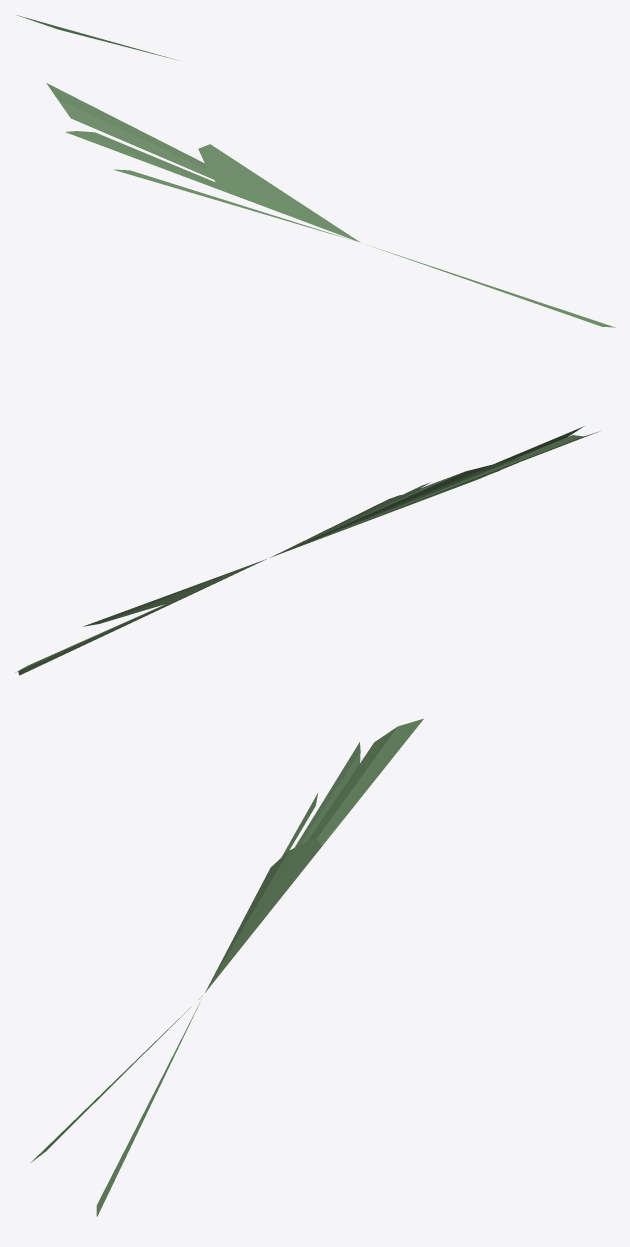
Rendered from c_1669_17821_forest.glb.
The picture shows the model from 3 angles, top to bottom: view 1: azimuth 30°, elevation 25°; view 2: azimuth 210°, elevation 25°; view 3: azimuth 270°, elevation 25°; orthographic projection. The views are drawn at different scales.
Parts seen in each view (by area): view 1: geometry_0; view 2: geometry_0; view 3: geometry_0.
Boxes of the visible parts, bbox=[...] form: geometry_0: bbox=[16, 15, 615, 327]; geometry_0: bbox=[15, 426, 598, 675]; geometry_0: bbox=[31, 718, 423, 1216].
Bounding box in the file's own units: 472 × 285 × 496.
